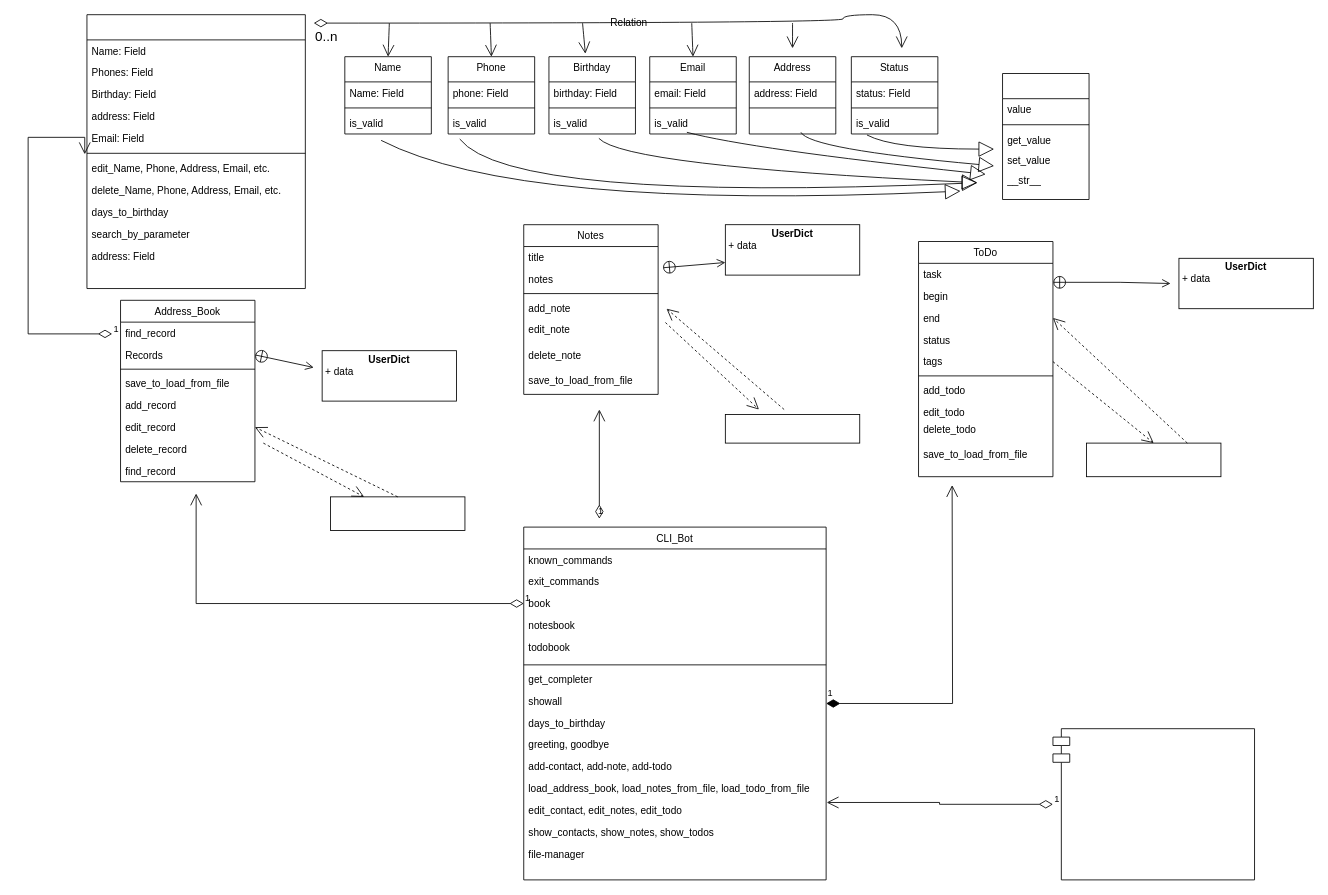
This 1328x895 diagram has some shape labels left out. The shapes that lost their labels are listed below. From the top down, each one's box as (x1, y1, x2, y2) in pixels, then its label:
(86, 14, 305, 289): Record
(1002, 73, 1089, 200): Field
(724, 414, 860, 443): Notes_Storage
(1086, 442, 1221, 477): ToDos_Storage
(330, 496, 465, 530): Address_Book_Storage
(1052, 728, 1255, 880): File_manager
